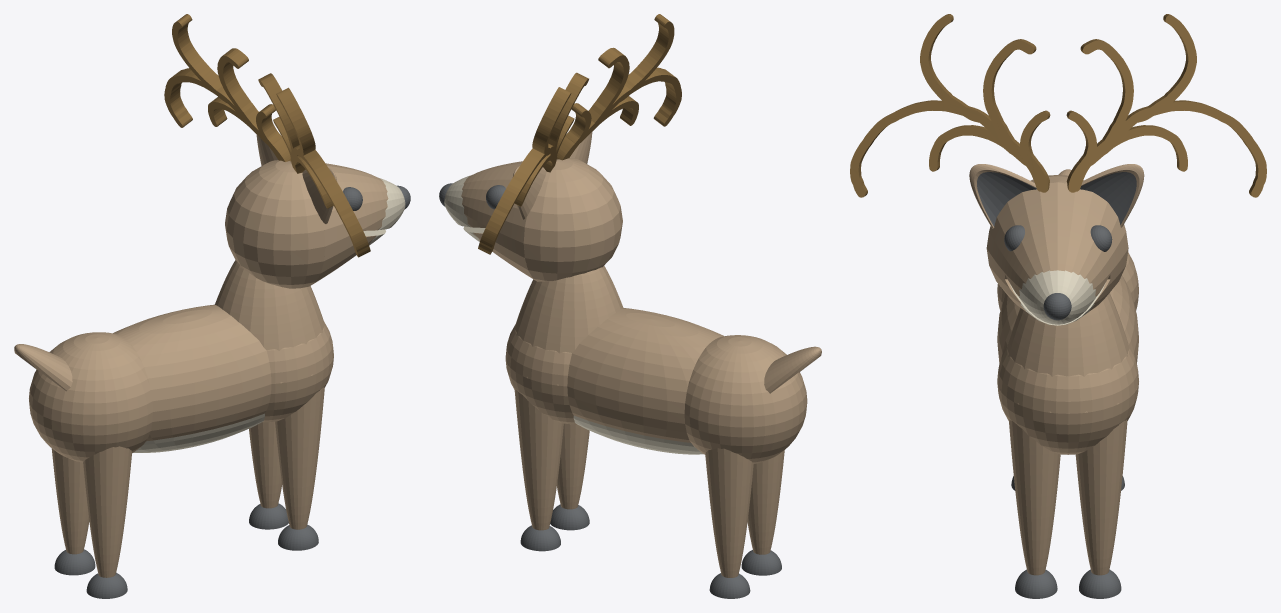
The model's file is Deer.glb.
The picture shows the model from 3 angles, left to right: view 1: azimuth 30°, elevation 25°; view 2: azimuth 150°, elevation 25°; view 3: azimuth 270°, elevation 25°; orthographic projection. The views are drawn at different scales.
Visible parts, largest first — view 1: Mesh_Mesh_head_geo.001_lambert2SG.001; view 2: Mesh_Mesh_head_geo.001_lambert2SG.001; view 3: Mesh_Mesh_head_geo.001_lambert2SG.001.
Part boxes in pixels (left/top/right/bottom): Mesh_Mesh_head_geo.001_lambert2SG.001: left=14, top=14, right=410, bottom=598; Mesh_Mesh_head_geo.001_lambert2SG.001: left=439, top=14, right=821, bottom=598; Mesh_Mesh_head_geo.001_lambert2SG.001: left=850, top=14, right=1266, bottom=598.
Size of the model in its own units: 34.44 by 42 by 29.
